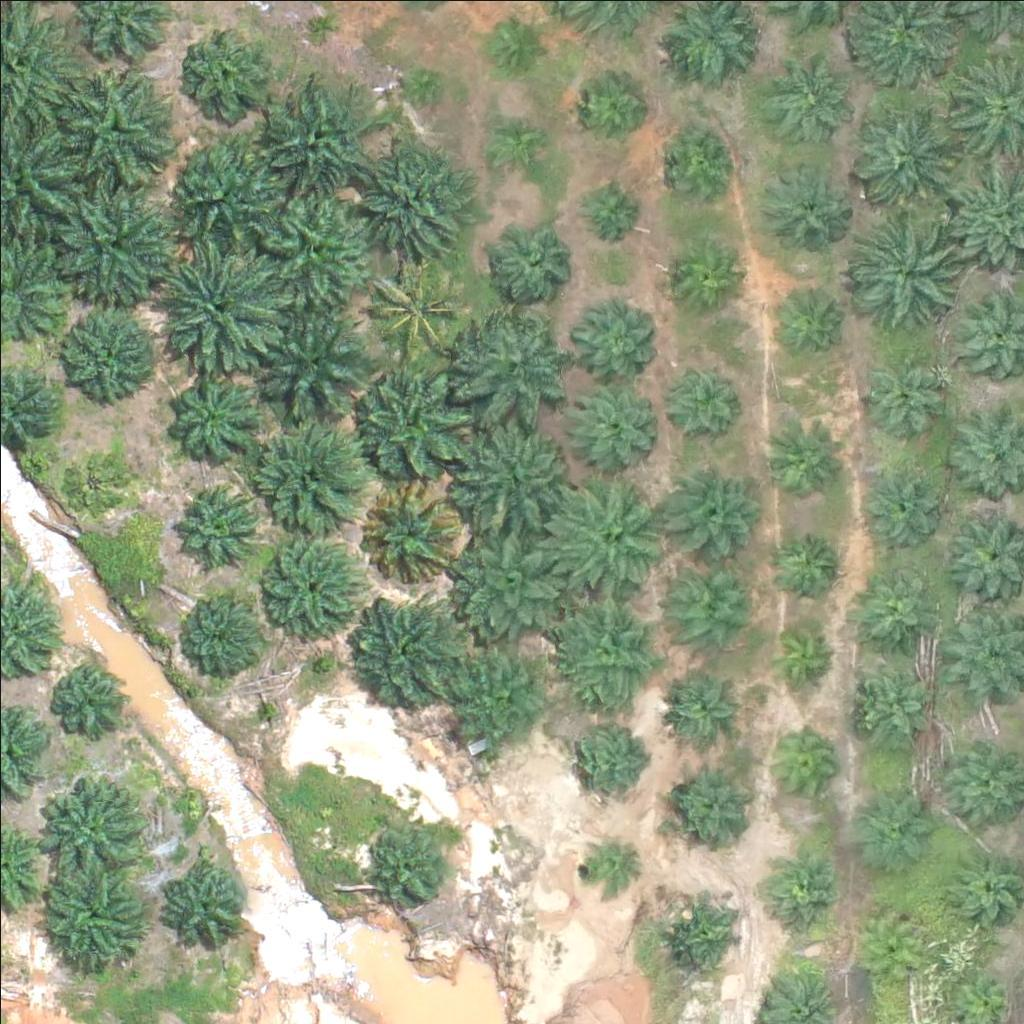Kelapa_Sawit: (546, 477, 671, 603), (842, 204, 967, 330), (343, 592, 468, 718), (349, 358, 474, 484), (446, 411, 571, 537), (449, 305, 574, 431), (247, 416, 372, 542), (251, 185, 376, 311), (344, 138, 469, 264), (163, 242, 288, 368), (154, 123, 279, 249), (58, 178, 183, 304), (56, 63, 181, 189), (258, 79, 383, 205), (454, 513, 579, 638), (248, 301, 373, 426), (360, 256, 473, 370), (353, 476, 466, 589), (442, 641, 554, 755), (253, 525, 365, 639), (552, 590, 664, 703), (557, 377, 657, 478), (39, 775, 139, 876), (43, 868, 143, 969), (164, 373, 264, 474), (61, 298, 161, 399), (175, 21, 275, 122), (862, 107, 962, 207), (665, 547, 765, 647), (663, 754, 751, 842), (765, 57, 853, 145), (571, 296, 659, 384), (851, 561, 939, 649), (854, 344, 942, 432), (160, 856, 248, 944), (660, 657, 747, 745), (362, 815, 449, 903), (43, 656, 130, 744), (669, 469, 756, 557), (853, 653, 940, 741), (861, 459, 948, 547), (766, 164, 853, 252), (492, 216, 579, 304), (169, 486, 256, 574), (174, 591, 261, 679), (668, 891, 743, 967), (765, 416, 840, 492), (770, 527, 845, 603), (764, 615, 839, 691), (566, 728, 641, 804), (665, 124, 740, 200), (55, 445, 130, 521), (854, 785, 929, 860), (767, 858, 842, 933), (761, 725, 836, 800), (768, 281, 843, 356), (668, 241, 743, 316), (659, 361, 734, 436), (577, 67, 652, 142), (486, 106, 549, 169), (862, 913, 925, 976), (574, 832, 636, 895), (580, 183, 642, 246), (481, 11, 544, 73), (400, 63, 450, 113), (299, 13, 336, 51)
